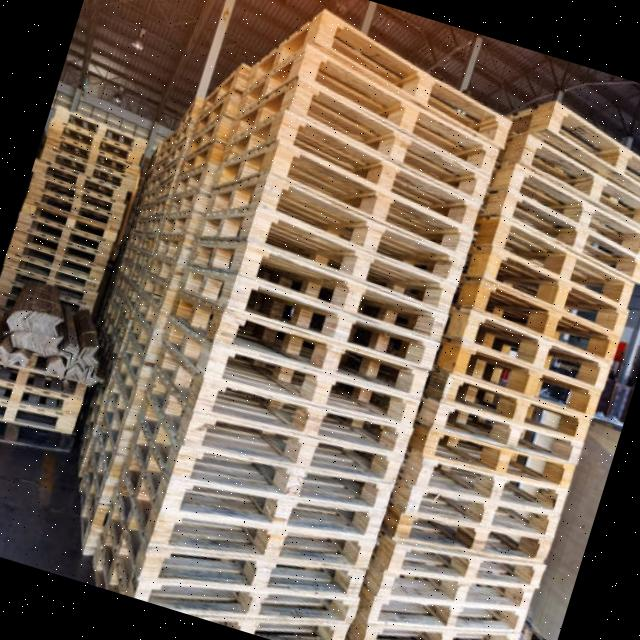Wooden-Pallets: (303, 3, 519, 158), (271, 103, 481, 249), (239, 204, 460, 325), (209, 305, 434, 409), (177, 401, 406, 490), (143, 510, 377, 590), (465, 275, 624, 372), (492, 186, 640, 285), (524, 98, 640, 206), (421, 420, 579, 498), (399, 483, 568, 545), (373, 563, 538, 620), (47, 100, 154, 156), (20, 178, 124, 234), (34, 138, 138, 192), (6, 248, 102, 292), (10, 227, 109, 268), (361, 616, 527, 640)
